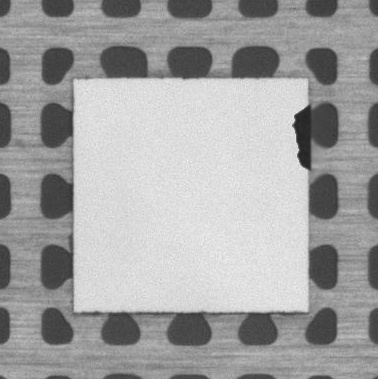DIE_BROKEN: (292, 104, 313, 177)
